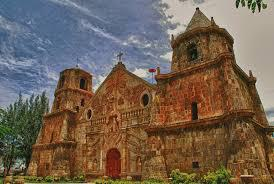miagao_church_miagao_iloilo: (34, 6, 269, 176)
